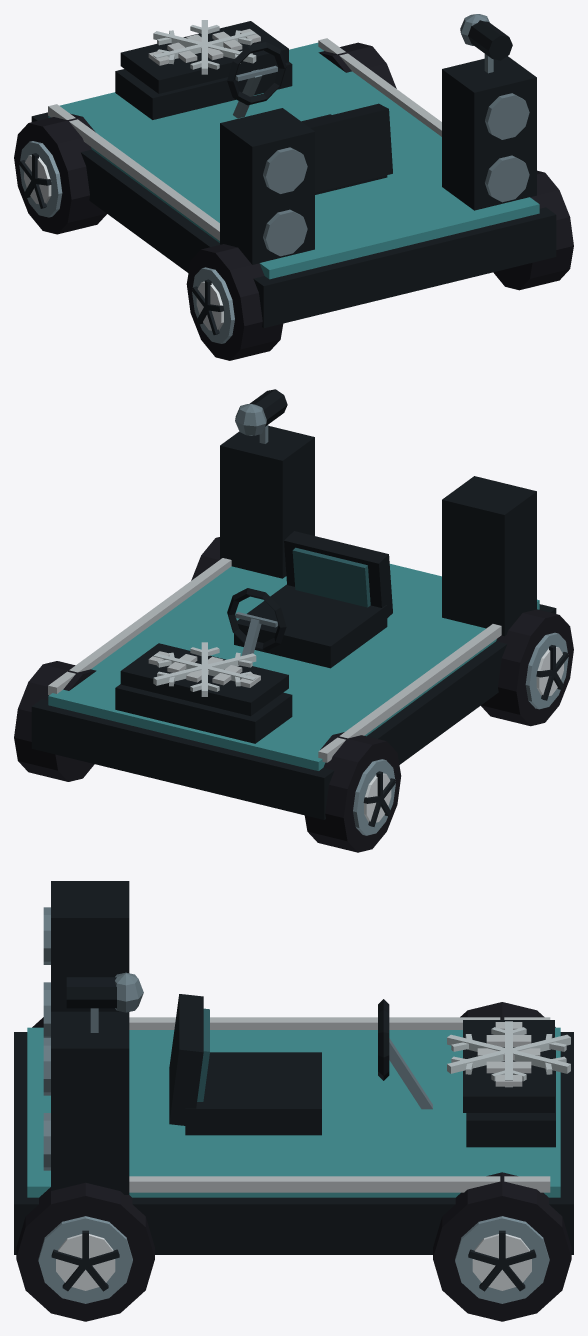
File: kart.glb
3 renders of one model, top to bottom at view 1: azimuth 30°, elevation 25°; view 2: azimuth 150°, elevation 25°; view 3: azimuth 270°, elevation 25°, orthographic. The views are drawn at different scales.
Parts seen in each view (by area): view 1: identity-stage-stage-platform-and-pa-towers, identity-stage-driver-cockpit, wheel-rear-left, wheel-front-left, identity-stage-motif-equalizer, wheel-rear-right, identity-stage-motif-snow, identity-stage-motif-microphone, wheel-front-right; view 2: identity-stage-stage-platform-and-pa-towers, identity-stage-driver-cockpit, wheel-front-left, wheel-rear-left, identity-stage-motif-equalizer, wheel-front-right, identity-stage-motif-snow, identity-stage-motif-microphone; view 3: identity-stage-stage-platform-and-pa-towers, identity-stage-driver-cockpit, wheel-front-right, wheel-rear-right, identity-stage-motif-equalizer, identity-stage-motif-snow, identity-stage-motif-microphone, wheel-front-left.
Part boxes in pixels (left/top/right/bottom): identity-stage-stage-platform-and-pa-towers: left=31, top=38, right=556, bottom=328; identity-stage-driver-cockpit: left=227, top=42, right=392, bottom=194; wheel-rear-left: left=186, top=244, right=283, bottom=360; wheel-front-left: left=14, top=113, right=106, bottom=234; identity-stage-motif-equalizer: left=120, top=21, right=288, bottom=93; wheel-rear-right: left=493, top=170, right=573, bottom=290; identity-stage-motif-snow: left=153, top=20, right=256, bottom=74; identity-stage-motif-microphone: left=460, top=14, right=512, bottom=73; wheel-front-right: left=318, top=42, right=396, bottom=88; identity-stage-stage-platform-and-pa-towers: left=31, top=426, right=556, bottom=819; identity-stage-driver-cockpit: left=227, top=531, right=392, bottom=668; wheel-front-left: left=304, top=732, right=401, bottom=852; wheel-rear-left: left=481, top=609, right=573, bottom=726; identity-stage-motif-equalizer: left=120, top=643, right=288, bottom=716; wheel-front-right: left=14, top=661, right=96, bottom=781; identity-stage-motif-snow: left=153, top=642, right=256, bottom=696; identity-stage-motif-microphone: left=235, top=389, right=287, bottom=443; identity-stage-stage-platform-and-pa-towers: left=14, top=881, right=573, bottom=1254; identity-stage-driver-cockpit: left=169, top=994, right=432, bottom=1135; wheel-front-right: left=433, top=1172, right=571, bottom=1321; wheel-rear-right: left=16, top=1182, right=154, bottom=1321; identity-stage-motif-equalizer: left=463, top=1020, right=554, bottom=1112; identity-stage-motif-snow: left=447, top=1021, right=570, bottom=1087; identity-stage-motif-microphone: left=66, top=972, right=143, bottom=1032; wheel-front-left: left=460, top=1002, right=555, bottom=1027.
Size of the model in its own units: 2.16 by 1.57 by 2.5.
